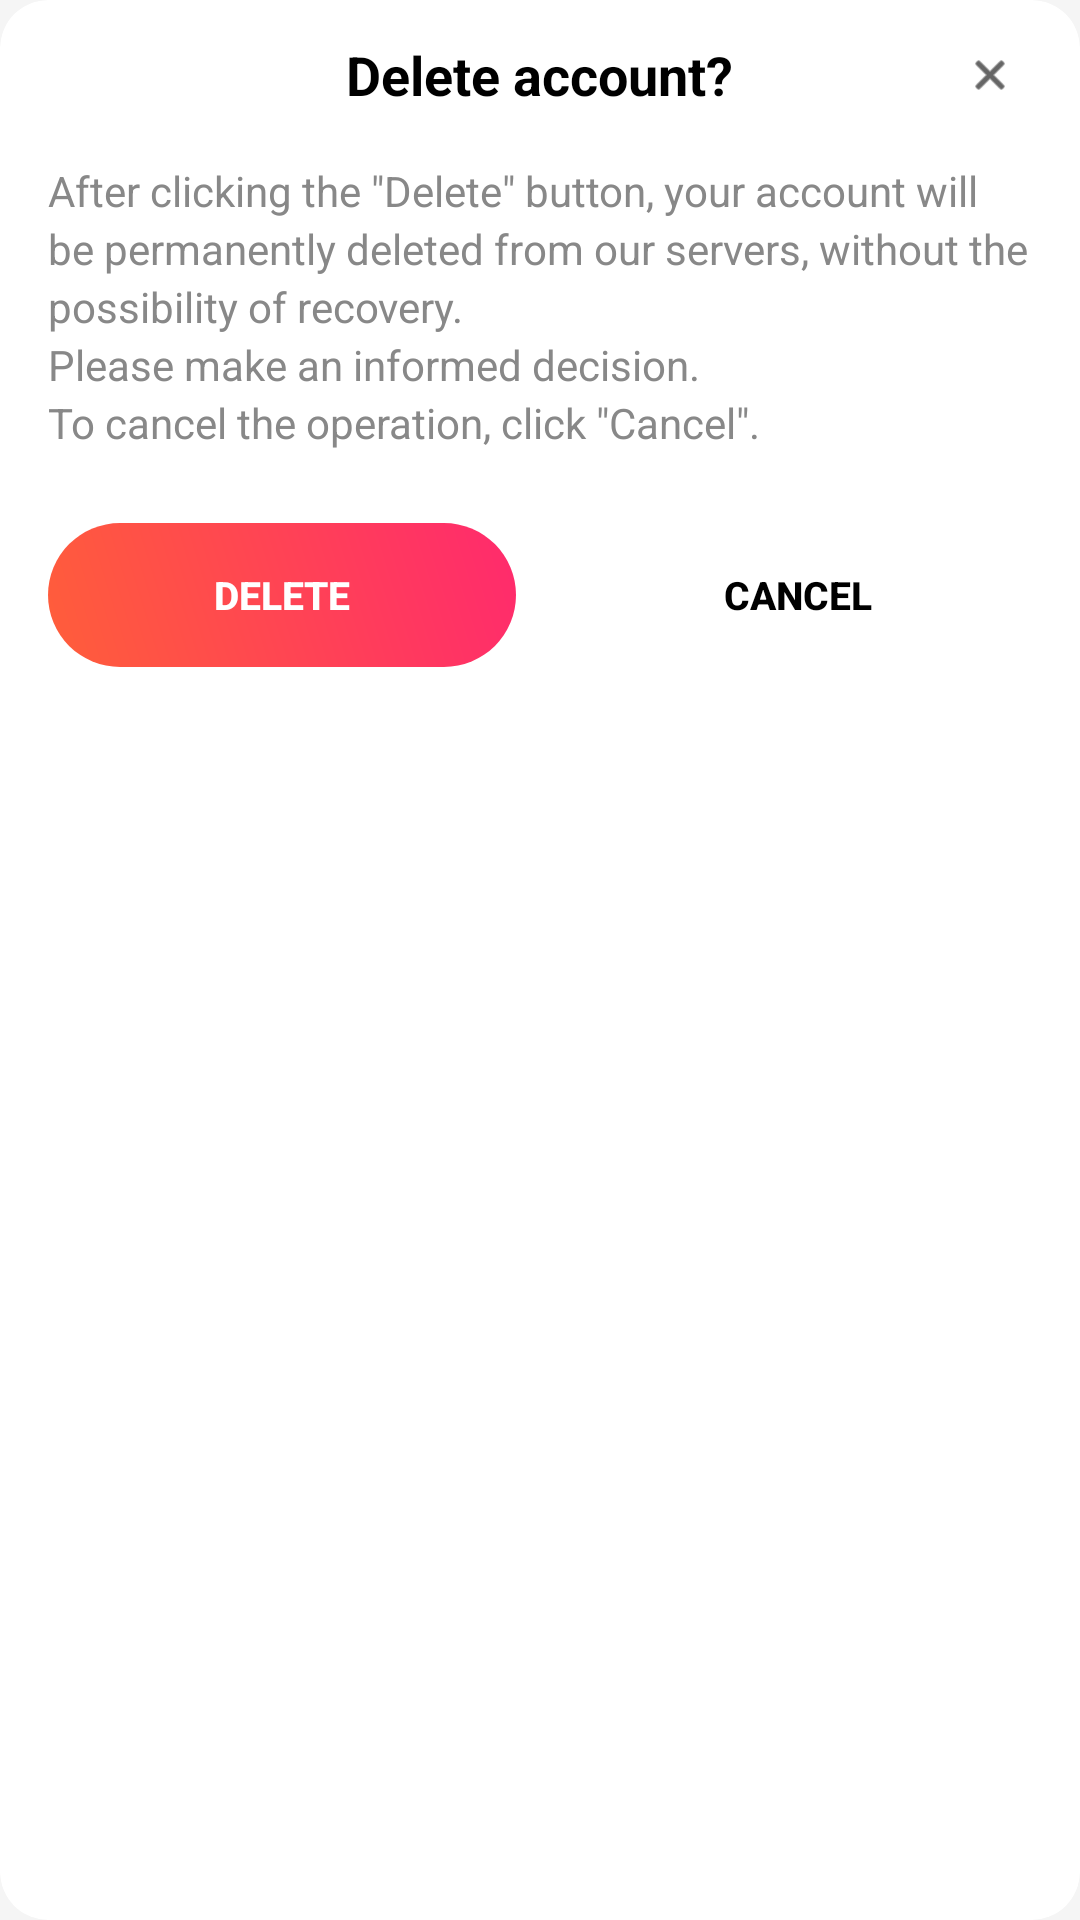

Named icons in this screenshot (1080×1920) and their bounding boxes, detection(x1, y1, x2, y2):
close clear cancel: detection(975, 60, 1005, 90)
